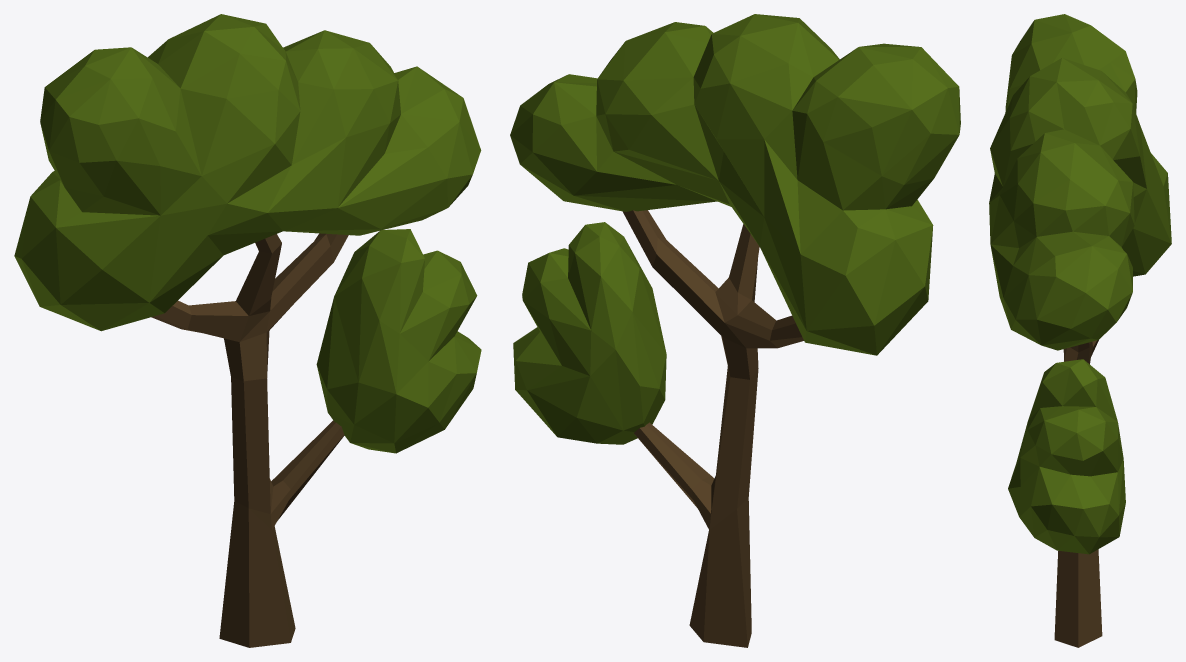
File: TreesAndBushes_092.fbx
3 renders of one model, left to right at view 1: azimuth 30°, elevation 25°; view 2: azimuth 150°, elevation 25°; view 3: azimuth 270°, elevation 25°, orthographic. The views are drawn at different scales.
Visible parts, largest first — view 1: TreesAndBushes_092; view 2: TreesAndBushes_092; view 3: TreesAndBushes_092.
Part boxes in pixels (x1=…): TreesAndBushes_092: x1=14, y1=14, x2=481, y2=647; TreesAndBushes_092: x1=510, y1=14, x2=960, y2=647; TreesAndBushes_092: x1=989, y1=14, x2=1171, y2=647.
Size of the model in its own units: 168 by 231 by 70.04.
